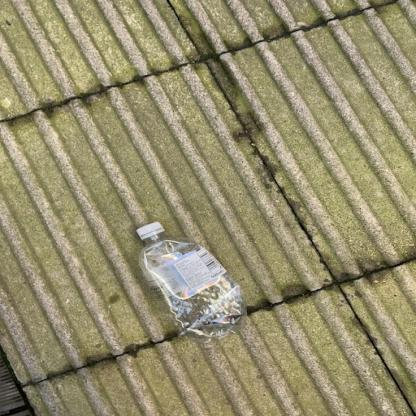trash: (129, 224, 251, 340)
